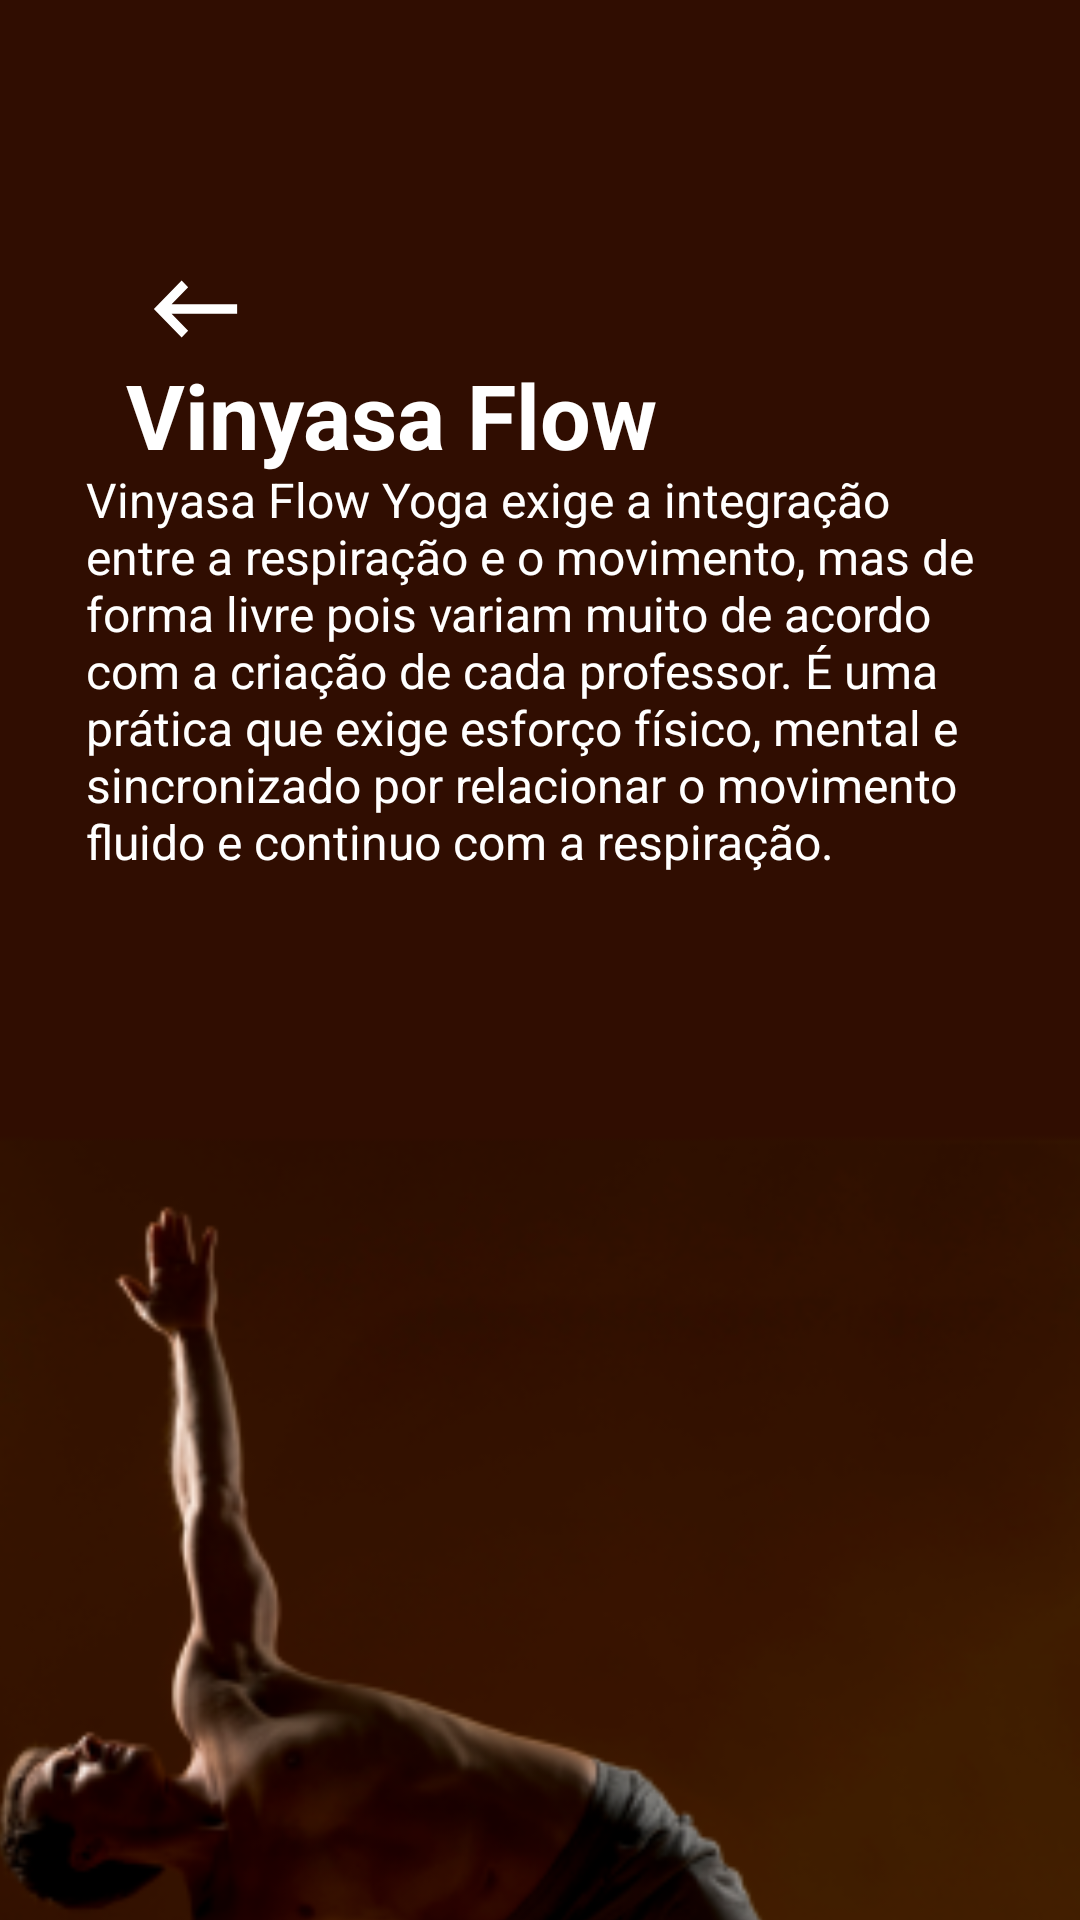

Icons on this 1080px x 1920px Android screen, each with the point to tap as [x,y]:
seta: [196,309]
